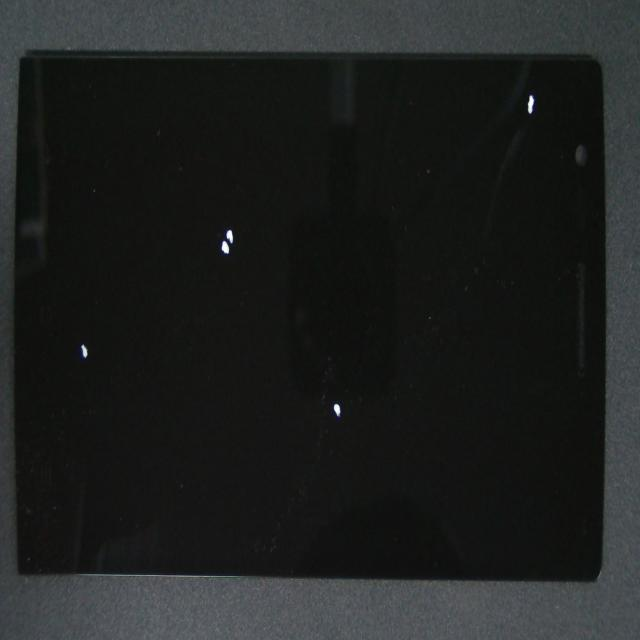Scratches: (215, 219, 250, 261), (510, 91, 546, 125), (78, 337, 93, 366), (331, 397, 344, 426)
